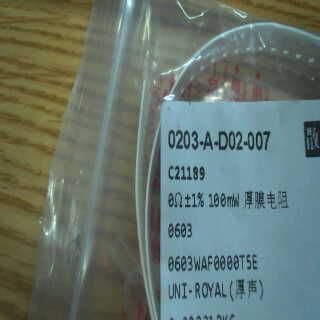0R: (167, 187, 241, 241)
